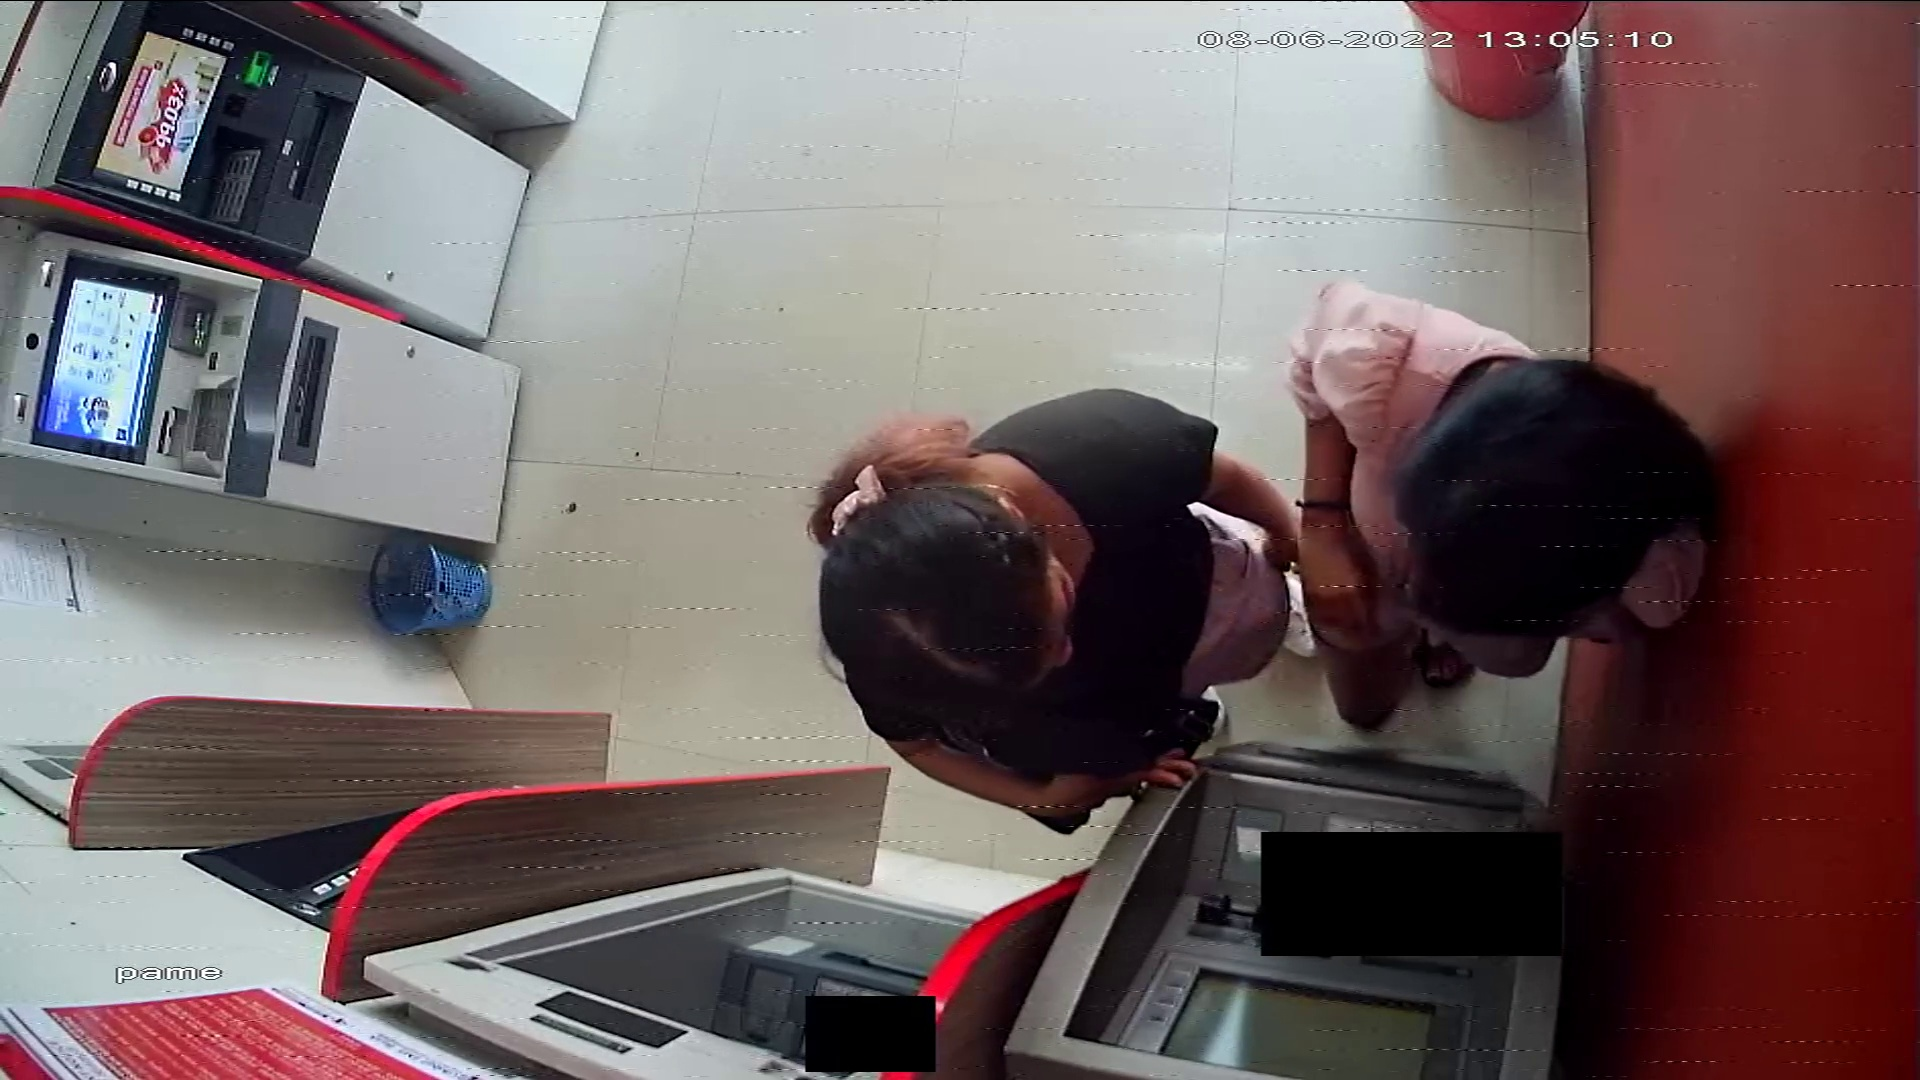person: (809, 389, 1318, 823), (1284, 274, 1706, 734)
